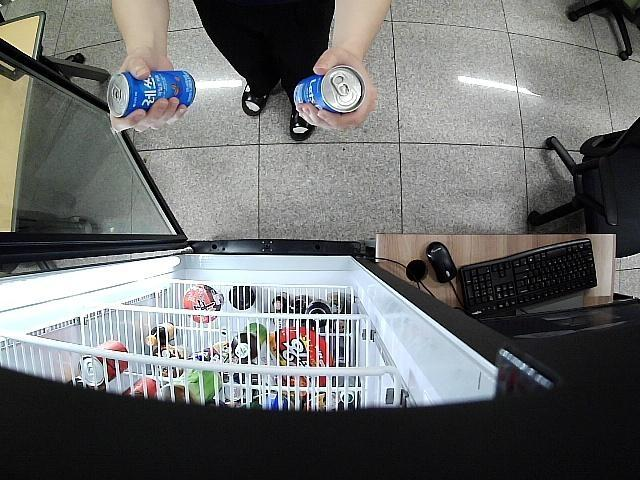15_letsbe: (106, 67, 198, 120), (294, 65, 365, 112)
